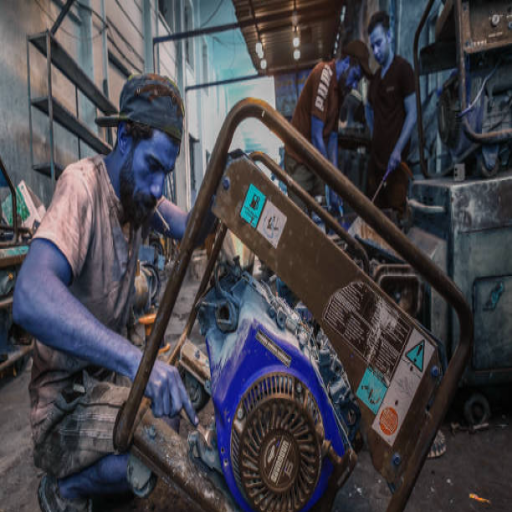portable_generator: (112, 98, 476, 512)
